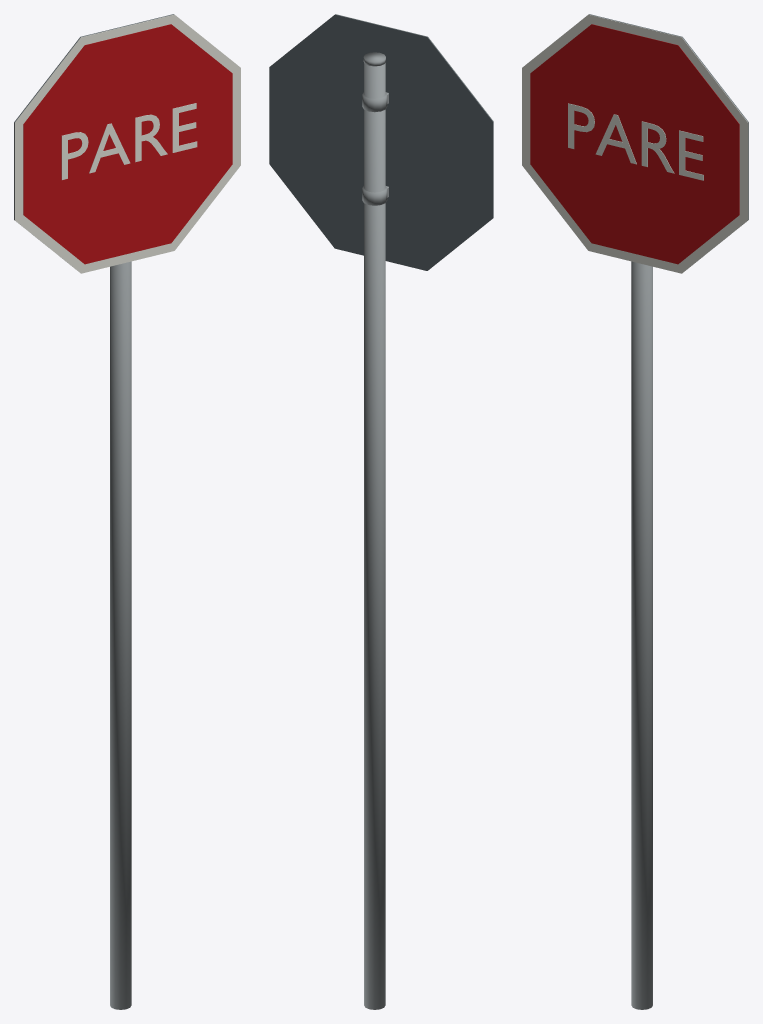
Rendered from PlacaParePoste.fbx.
The picture shows the model from 3 angles, left to right: view 1: azimuth 30°, elevation 25°; view 2: azimuth 150°, elevation 25°; view 3: azimuth 330°, elevation 25°; orthographic projection.
Visible parts, largest first — view 1: PlacaParePoste; view 2: PlacaParePoste; view 3: PlacaParePoste.
Boxes of the visible parts, x1,y1,x2,y2 form: PlacaParePoste: (14,14,240,1009); PlacaParePoste: (269,14,493,1009); PlacaParePoste: (522,14,748,1009).
Bounding box in the file's own units: 0.6 × 2.5 × 0.064.
